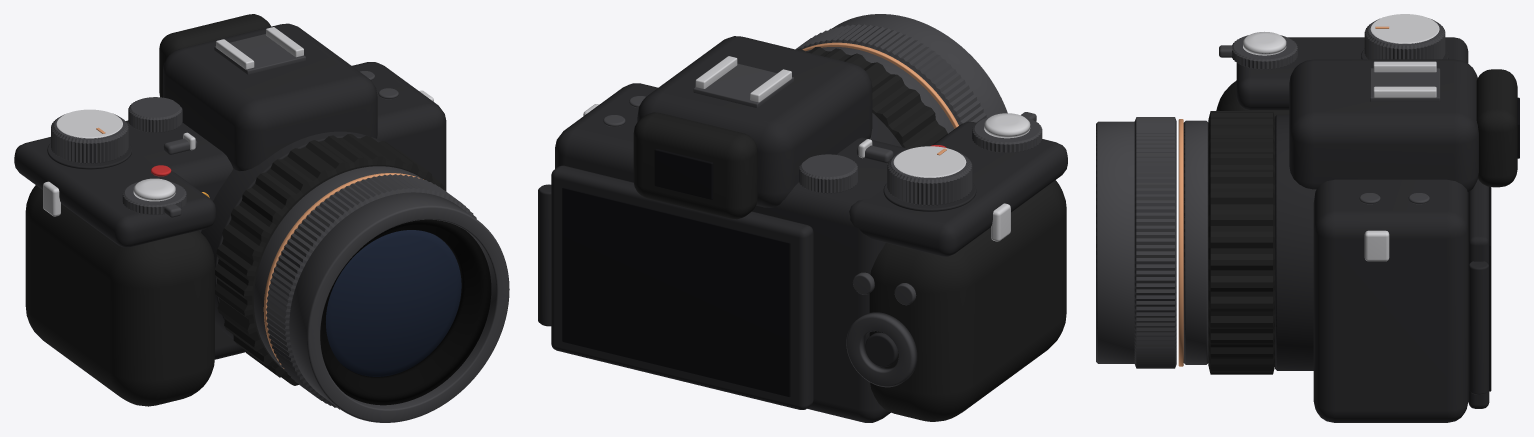
The model's file is camera.glb.
3 renders of one model, left to right at view 1: azimuth 30°, elevation 25°; view 2: azimuth 150°, elevation 25°; view 3: azimuth 270°, elevation 25°, orthographic. The views are drawn at different scales.
Parts seen in each view (by area): view 1: Grip, Viewfinder_Hump, Front_Element, Barrel_Front, Zoom_Ring, Body_Core, Grip_TopDeck, Lens_Baffle, Focus_Ring, Barrel_Mid, Lens_Mount, Mode_Dial (+11 smaller); view 2: Screen_Glass, Grip, Body_Core, Viewfinder_Hump, Screen_Frame, Grip_TopDeck, Eyecup, Focus_Ring, Zoom_Ring, Barrel_Front, Dpad_Ring, Mode_Dial (+15 smaller); view 3: Body_Core, Viewfinder_Hump, Zoom_Ring, Focus_Ring, Barrel_Front, Lens_Mount, Barrel_Mid, Eyecup, Grip_TopDeck, Screen_Hinge, Screen_Frame, Mode_Dial (+10 smaller).
Part boxes in pixels (x1,y1,x2,y2): Grip: [25, 185, 214, 406]; Viewfinder_Hump: [163, 23, 377, 171]; Front_Element: [326, 230, 461, 376]; Barrel_Front: [289, 192, 509, 422]; Zoom_Ring: [215, 134, 444, 385]; Body_Core: [126, 62, 446, 359]; Grip_TopDeck: [14, 137, 215, 247]; Lens_Baffle: [320, 219, 491, 405]; Focus_Ring: [266, 174, 476, 409]; Barrel_Mid: [254, 166, 423, 369]; Lens_Mount: [201, 131, 380, 339]; Mode_Dial: [51, 113, 128, 163]; Screen_Glass: [562, 187, 790, 397]; Grip: [869, 180, 1066, 421]; Body_Core: [555, 83, 908, 422]; Viewfinder_Hump: [637, 36, 872, 207]; Screen_Frame: [551, 165, 813, 409]; Grip_TopDeck: [849, 121, 1067, 256]; Eyecup: [633, 112, 757, 219]; Focus_Ring: [795, 24, 986, 125]; Zoom_Ring: [796, 47, 947, 148]; Barrel_Front: [832, 14, 1007, 117]; Dpad_Ring: [846, 312, 917, 387]; Mode_Dial: [887, 150, 972, 205]; Body_Core: [1313, 179, 1468, 422]; Viewfinder_Hump: [1289, 59, 1478, 192]; Zoom_Ring: [1208, 111, 1274, 374]; Focus_Ring: [1134, 117, 1176, 368]; Barrel_Front: [1096, 121, 1134, 363]; Lens_Mount: [1275, 114, 1316, 370]; Barrel_Mid: [1183, 120, 1208, 364]; Eyecup: [1476, 69, 1517, 187]; Grip_TopDeck: [1236, 37, 1468, 110]; Screen_Hinge: [1468, 261, 1489, 394]; Screen_Frame: [1468, 179, 1489, 408]; Mode_Dial: [1364, 18, 1445, 59].
Bounding box in the file's own units: 0.13 × 0.0899 × 0.1207.
